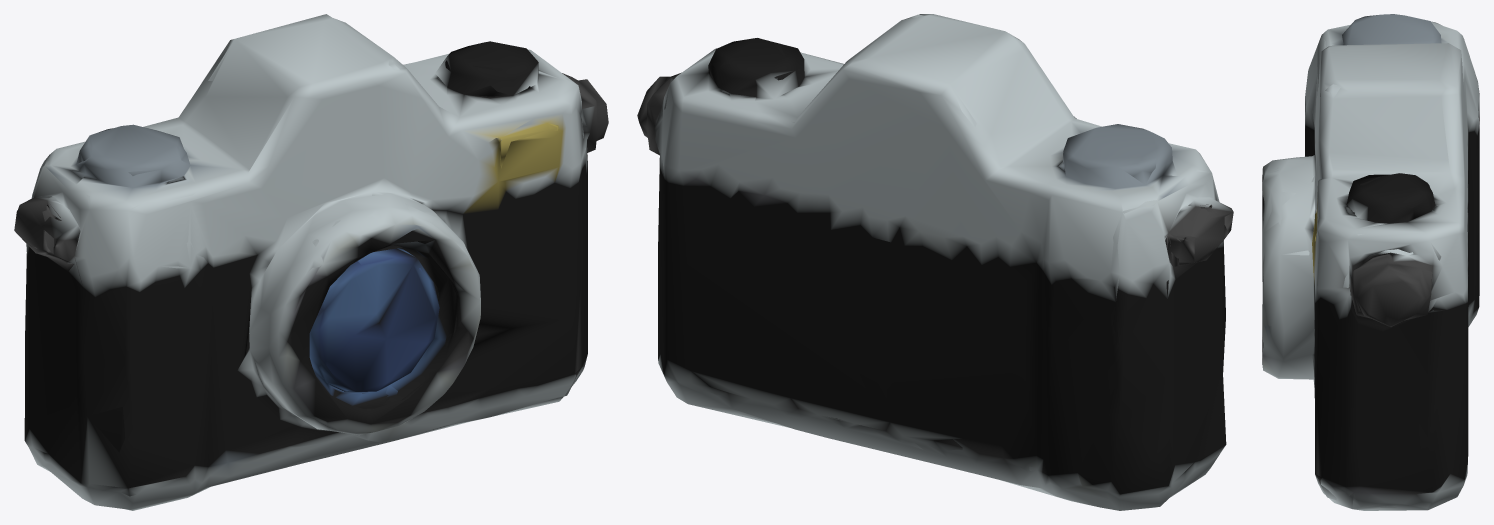
File: gen3d-camera-lod0.glb
3 views of the same model, side by side, from view 1: azimuth 30°, elevation 25°; view 2: azimuth 150°, elevation 25°; view 3: azimuth 270°, elevation 25° (orthographic). The views are drawn at different scales.
Visible parts, largest first — view 1: part_0; view 2: part_0; view 3: part_0.
Part boxes in pixels (bbox=[...]): part_0: bbox=[14, 14, 608, 510]; part_0: bbox=[637, 14, 1233, 510]; part_0: bbox=[1262, 14, 1479, 510].
Bounding box in the file's own units: 1.53 × 0.9999 × 0.5701.
